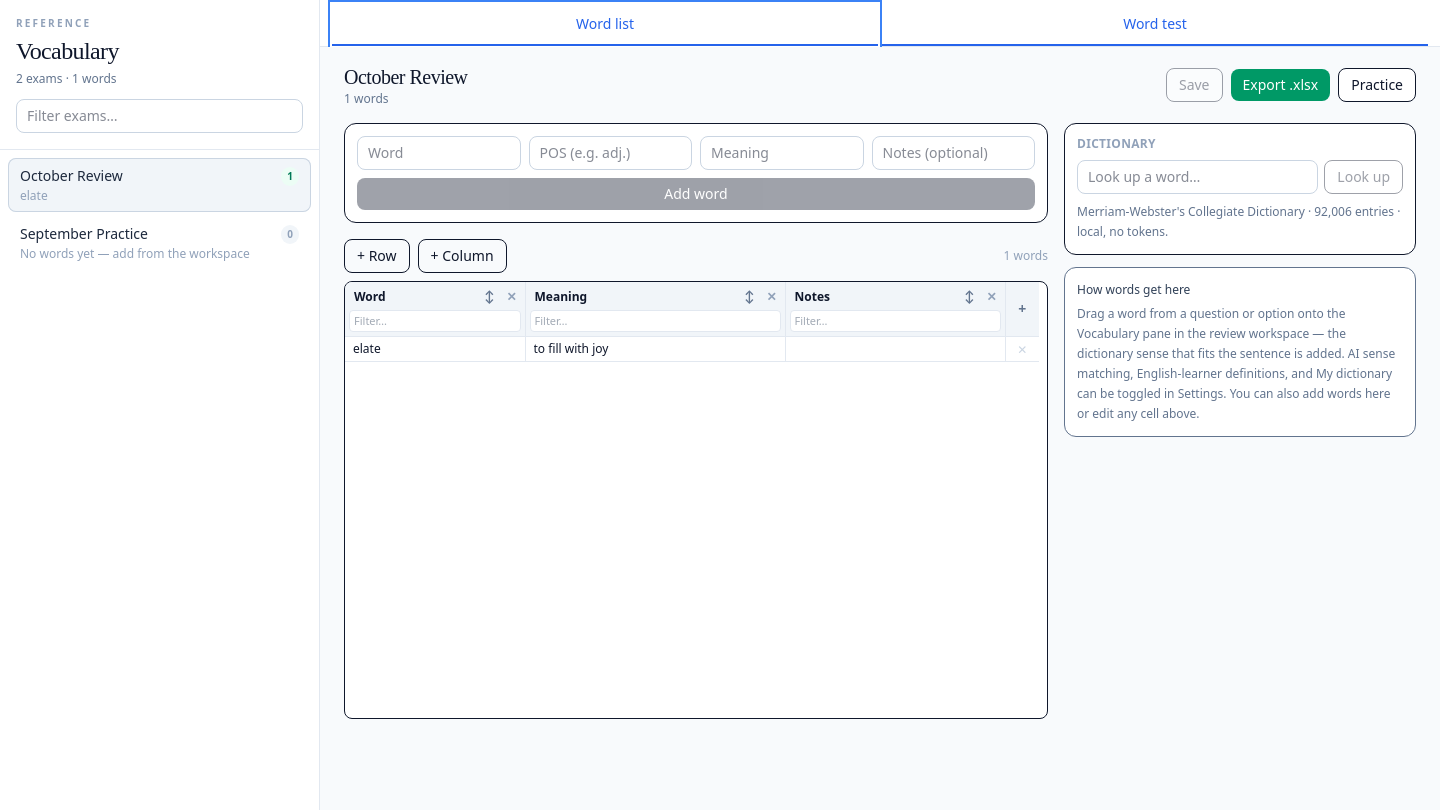
Test case: VocabularyPage › switches exams from the index
The image size is (1440, 810).
Expected: the element with test id "vocab-grid" is shown, [344,239,1048,719]
Click the button "September Practice 0 No words yet — add from the workspace" at (160, 243), box [8,216,311,270]
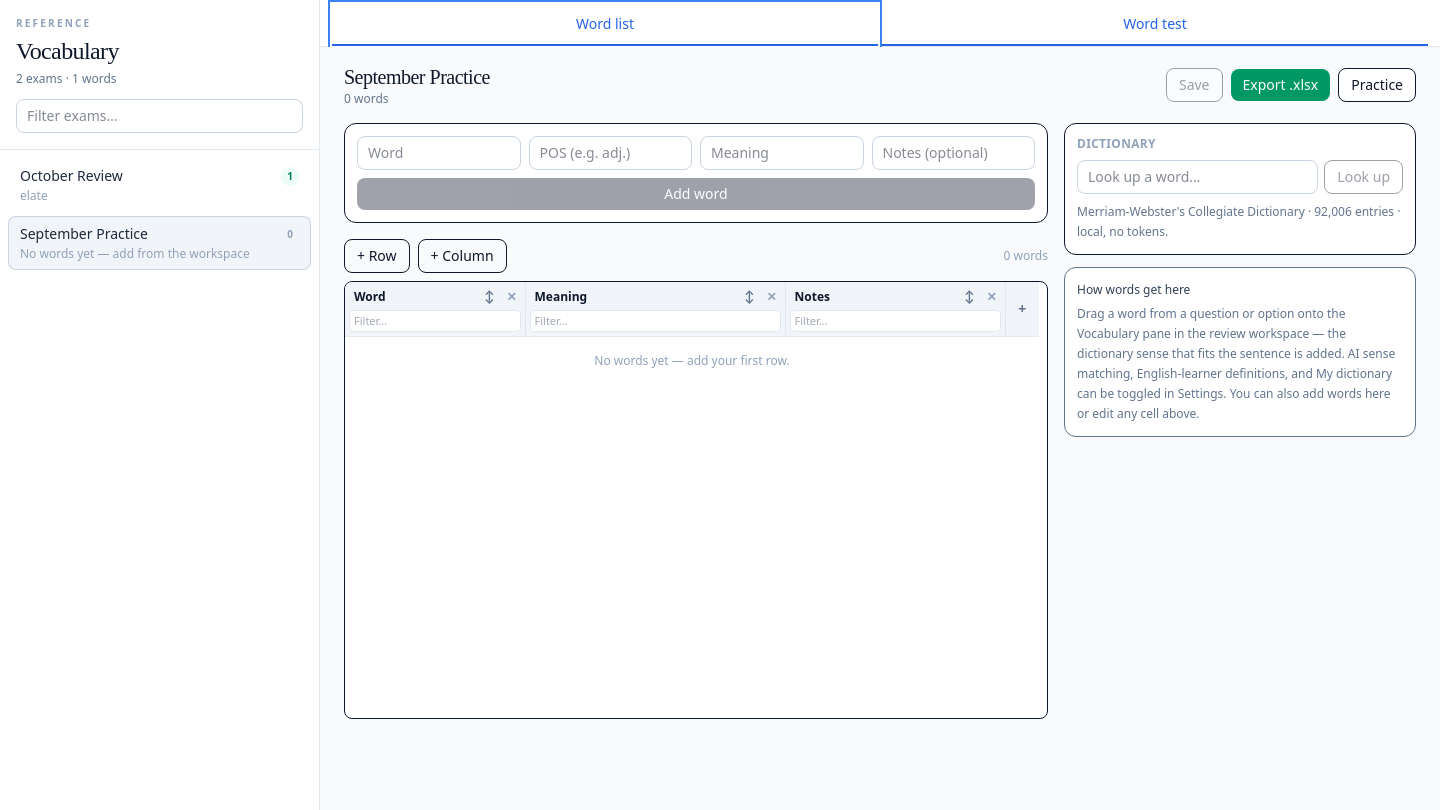
Expected: the heading "September Practice" is shown, [344,66,490,88]
